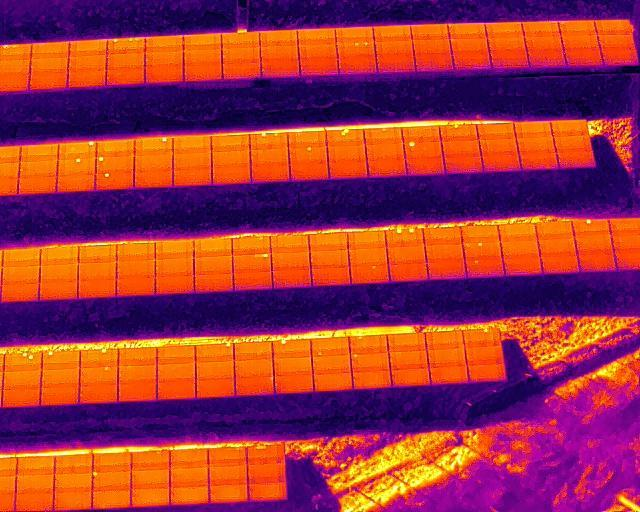Cell: (92, 471, 131, 490), (195, 343, 233, 362), (80, 350, 119, 368), (134, 137, 173, 155), (350, 264, 388, 282), (466, 258, 503, 276), (272, 340, 311, 357), (349, 335, 388, 352), (350, 352, 389, 369), (80, 368, 118, 385), (58, 142, 96, 159), (96, 156, 134, 173), (96, 172, 134, 189), (311, 339, 348, 356), (441, 125, 477, 142), (462, 330, 500, 346), (42, 352, 80, 368), (289, 147, 327, 163), (58, 159, 96, 175), (233, 254, 271, 270), (364, 128, 401, 144), (405, 142, 441, 158), (574, 219, 609, 235)
Cell-Multi: (3, 352, 41, 369), (464, 242, 502, 259), (386, 230, 423, 247), (107, 37, 145, 53), (250, 134, 288, 150), (326, 130, 363, 146), (338, 43, 374, 59), (0, 43, 31, 61)
No-Anomaly: (157, 345, 196, 365), (274, 373, 313, 392), (196, 378, 235, 397), (169, 449, 208, 468), (15, 475, 54, 494), (54, 492, 93, 511), (41, 369, 81, 387), (209, 484, 249, 502), (271, 269, 311, 287), (389, 263, 428, 281), (3, 370, 42, 388), (118, 347, 157, 365), (465, 345, 504, 363), (297, 27, 336, 45), (2, 387, 41, 405), (40, 387, 79, 405), (79, 385, 118, 403), (157, 380, 196, 398), (118, 383, 157, 401), (132, 470, 171, 488), (170, 468, 209, 486), (209, 466, 248, 484), (248, 482, 287, 500), (69, 39, 108, 57), (116, 276, 155, 294), (233, 271, 272, 289), (96, 139, 135, 157), (57, 175, 96, 193), (429, 261, 465, 280), (429, 365, 467, 383), (93, 453, 131, 471), (209, 447, 247, 465), (17, 457, 55, 475), (54, 454, 92, 472), (54, 473, 92, 491), (93, 491, 131, 509), (145, 66, 183, 84), (252, 165, 290, 183), (579, 251, 615, 270), (234, 376, 274, 393), (313, 372, 352, 389), (312, 355, 351, 372), (118, 366, 157, 383), (468, 363, 507, 380), (391, 368, 430, 385), (131, 489, 170, 506), (170, 486, 209, 503), (131, 452, 170, 469), (145, 35, 184, 52), (15, 494, 54, 511), (260, 46, 299, 63), (106, 52, 145, 69), (414, 55, 453, 72), (29, 72, 68, 89), (300, 61, 339, 78), (67, 70, 106, 87), (105, 68, 144, 85), (78, 279, 117, 296), (155, 276, 194, 293), (311, 266, 350, 283), (20, 143, 59, 160), (18, 177, 57, 194), (542, 255, 578, 273), (505, 258, 541, 276), (515, 120, 551, 138), (260, 30, 298, 47), (352, 370, 390, 387), (448, 23, 486, 40), (387, 334, 425, 351), (234, 342, 272, 359), (390, 351, 428, 368), (428, 349, 466, 366), (157, 364, 195, 381), (486, 21, 524, 38), (377, 55, 415, 72), (223, 62, 261, 79), (184, 64, 222, 81), (40, 280, 78, 297), (195, 273, 233, 290), (212, 151, 250, 168), (211, 135, 249, 152), (174, 136, 212, 153), (290, 163, 328, 180), (368, 160, 406, 177), (212, 167, 250, 184), (194, 256, 232, 273), (272, 357, 312, 373), (233, 359, 273, 375), (411, 24, 448, 41), (249, 464, 286, 481), (31, 41, 68, 58), (445, 156, 482, 173), (329, 161, 366, 178), (424, 229, 461, 246), (348, 232, 385, 249), (78, 262, 117, 278), (195, 362, 234, 378), (183, 33, 222, 49), (145, 51, 184, 67), (527, 51, 566, 67), (67, 55, 106, 71), (134, 155, 173, 171), (173, 169, 212, 185), (134, 171, 173, 187), (309, 234, 348, 250), (271, 252, 310, 268), (444, 140, 480, 157), (483, 154, 519, 171), (521, 153, 557, 170), (407, 158, 443, 175), (500, 223, 536, 240), (117, 260, 155, 276), (374, 25, 412, 41), (221, 32, 259, 48), (376, 40, 414, 56), (222, 47, 260, 63), (184, 49, 222, 65), (30, 56, 68, 72), (522, 21, 560, 37), (194, 239, 232, 255), (155, 242, 193, 258), (79, 245, 117, 261), (311, 251, 349, 267), (156, 259, 194, 275), (298, 45, 338, 60), (567, 50, 602, 67), (519, 136, 554, 153), (538, 221, 573, 238), (503, 241, 538, 258), (604, 48, 637, 66), (41, 264, 78, 280), (526, 36, 563, 52), (339, 59, 376, 75), (367, 144, 404, 160), (462, 225, 499, 241), (426, 244, 463, 260), (260, 62, 299, 77), (172, 154, 211, 169), (270, 235, 309, 250), (117, 244, 156, 259), (3, 283, 39, 299), (451, 39, 487, 55), (454, 53, 490, 69), (3, 266, 39, 282), (540, 238, 576, 254), (335, 26, 373, 41), (425, 332, 463, 347), (288, 132, 326, 147), (233, 238, 271, 253), (20, 161, 58, 176), (388, 247, 426, 262), (40, 247, 78, 262), (492, 52, 527, 68), (481, 139, 516, 155), (478, 123, 513, 139), (414, 40, 451, 55), (251, 150, 288, 165), (3, 250, 40, 265), (350, 249, 387, 264), (559, 151, 593, 167), (578, 235, 612, 251), (553, 120, 587, 136), (562, 34, 598, 49), (489, 37, 525, 52), (329, 145, 365, 160), (556, 136, 589, 152), (403, 127, 440, 141), (561, 20, 595, 35), (600, 34, 634, 49), (597, 20, 630, 35)
Unclassified: (247, 445, 285, 463)
